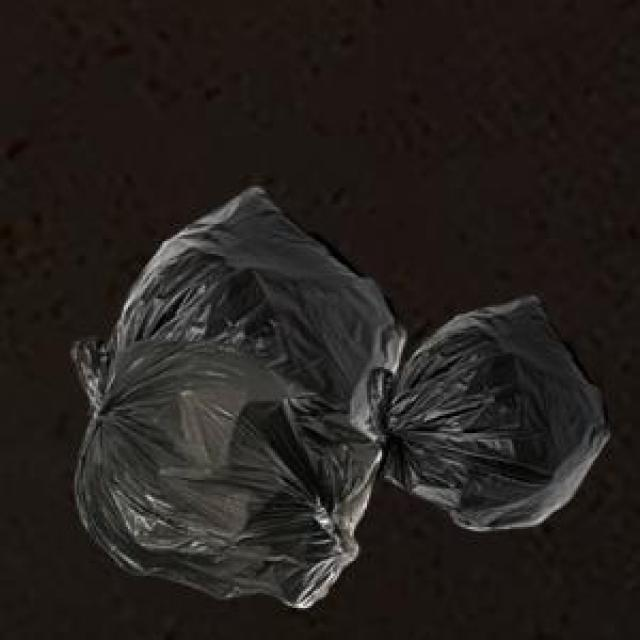Trashbag: (70, 182, 410, 610), (381, 298, 616, 538)
